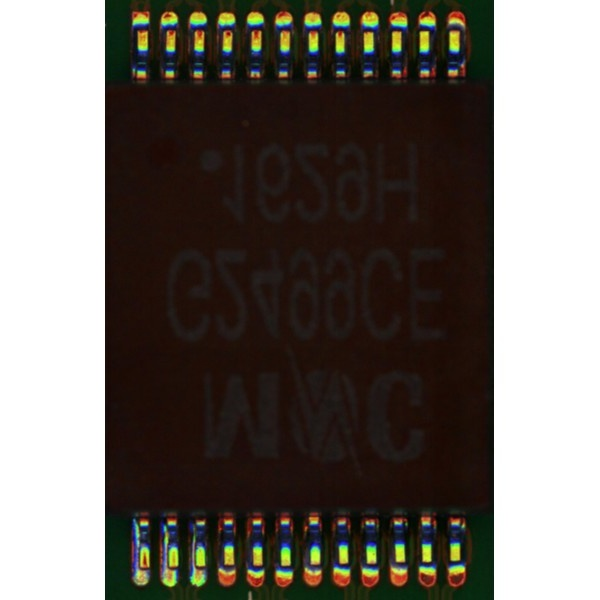Bad_podu: (196, 562, 205, 576), (168, 563, 178, 575), (139, 563, 148, 574)
Bad_qiaojiao: (133, 518, 139, 568), (163, 525, 168, 567), (191, 526, 196, 567)
